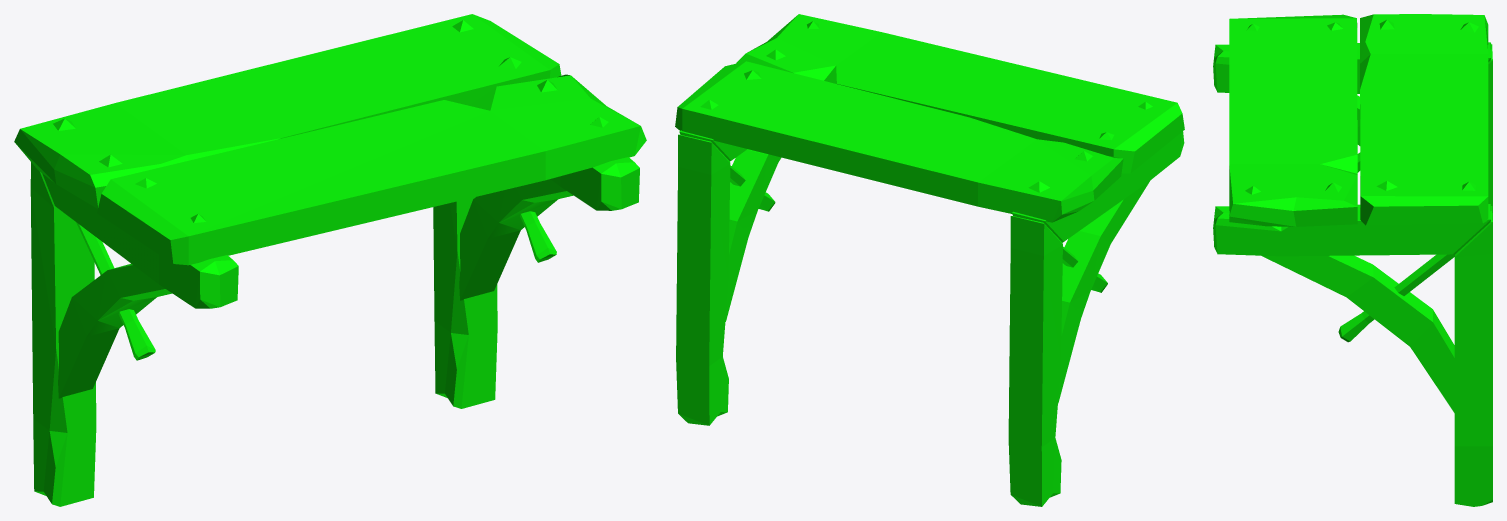
Rendered from SM_Signboard_Holder_C_Fantasy.fbx.
The picture shows the model from 3 angles, left to right: view 1: azimuth 30°, elevation 25°; view 2: azimuth 150°, elevation 25°; view 3: azimuth 270°, elevation 25°; orthographic projection. The views are drawn at different scales.
Parts seen in each view (by area): view 1: singboard-holder-c-fantasy; view 2: singboard-holder-c-fantasy; view 3: singboard-holder-c-fantasy.
Boxes of the visible parts, x1,y1,x2,y2 form: singboard-holder-c-fantasy: [14, 14, 646, 506]; singboard-holder-c-fantasy: [675, 14, 1184, 506]; singboard-holder-c-fantasy: [1213, 14, 1492, 506].
Size of the model in its own units: 1.43 by 1.09 by 0.8786.
